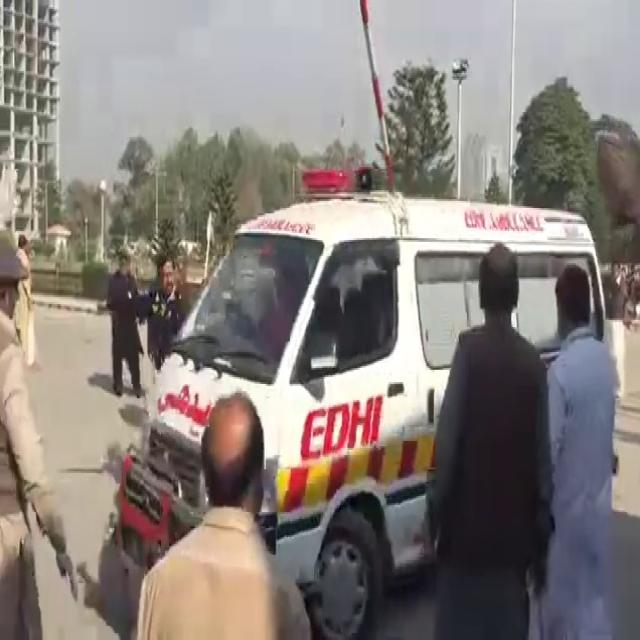ambulance: (129, 161, 637, 589)
